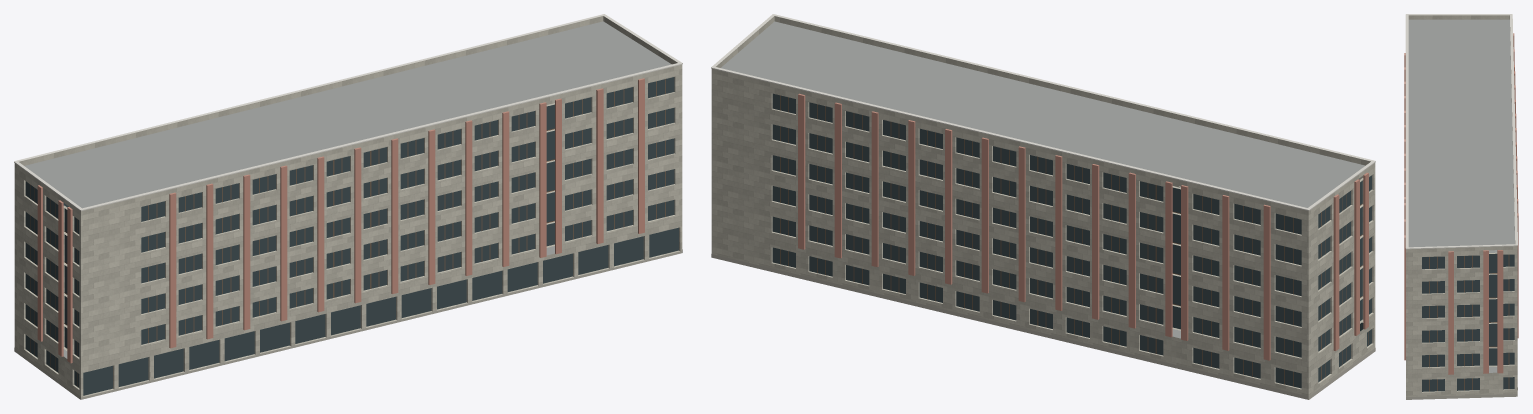
The picture shows the model from 3 angles, left to right: view 1: azimuth 30°, elevation 25°; view 2: azimuth 150°, elevation 25°; view 3: azimuth 270°, elevation 25°; orthographic projection. The views are drawn at different scales.
Parts seen in each view (by area): view 1: studentUnion__wall, studentUnion__glass, studentUnion__roof, studentUnion__pier, studentUnion__parapet, studentUnion__frame, studentUnion__trim, studentUnion__base; view 2: studentUnion__wall, studentUnion__glass, studentUnion__roof, studentUnion__pier, studentUnion__parapet, studentUnion__trim, studentUnion__frame, studentUnion__base; view 3: studentUnion__roof, studentUnion__wall, studentUnion__glass, studentUnion__pier, studentUnion__trim, studentUnion__parapet, studentUnion__frame, studentUnion__base.
Part boxes in pixels (box(x1,y1,x2,y2)): studentUnion__wall: box(14, 69, 682, 399); studentUnion__glass: box(25, 77, 678, 395); studentUnion__roof: box(24, 21, 671, 358); studentUnion__pier: box(37, 78, 644, 363); studentUnion__parapet: box(14, 16, 682, 215); studentUnion__frame: box(30, 79, 665, 386); studentUnion__trim: box(14, 14, 682, 210); studentUnion__base: box(14, 249, 682, 399); studentUnion__wall: box(711, 73, 1375, 399); studentUnion__glass: box(772, 93, 1371, 388); studentUnion__roof: box(721, 21, 1364, 338); studentUnion__pier: box(798, 93, 1368, 360); studentUnion__parapet: box(711, 16, 1375, 215); studentUnion__trim: box(711, 14, 1375, 210); studentUnion__frame: box(780, 95, 1368, 386); studentUnion__base: box(711, 254, 1375, 399); studentUnion__roof: box(1408, 19, 1514, 372); studentUnion__wall: box(1406, 249, 1517, 396); studentUnion__glass: box(1422, 253, 1514, 391); studentUnion__pier: box(1404, 33, 1518, 374); studentUnion__trim: box(1405, 14, 1517, 249); studentUnion__parapet: box(1406, 15, 1517, 252); studentUnion__frame: box(1429, 255, 1509, 391); studentUnion__base: box(1406, 387, 1517, 399).
Size of the model in its own units: 69.91 by 21 by 14.36.
8 materials, 2 textured.
